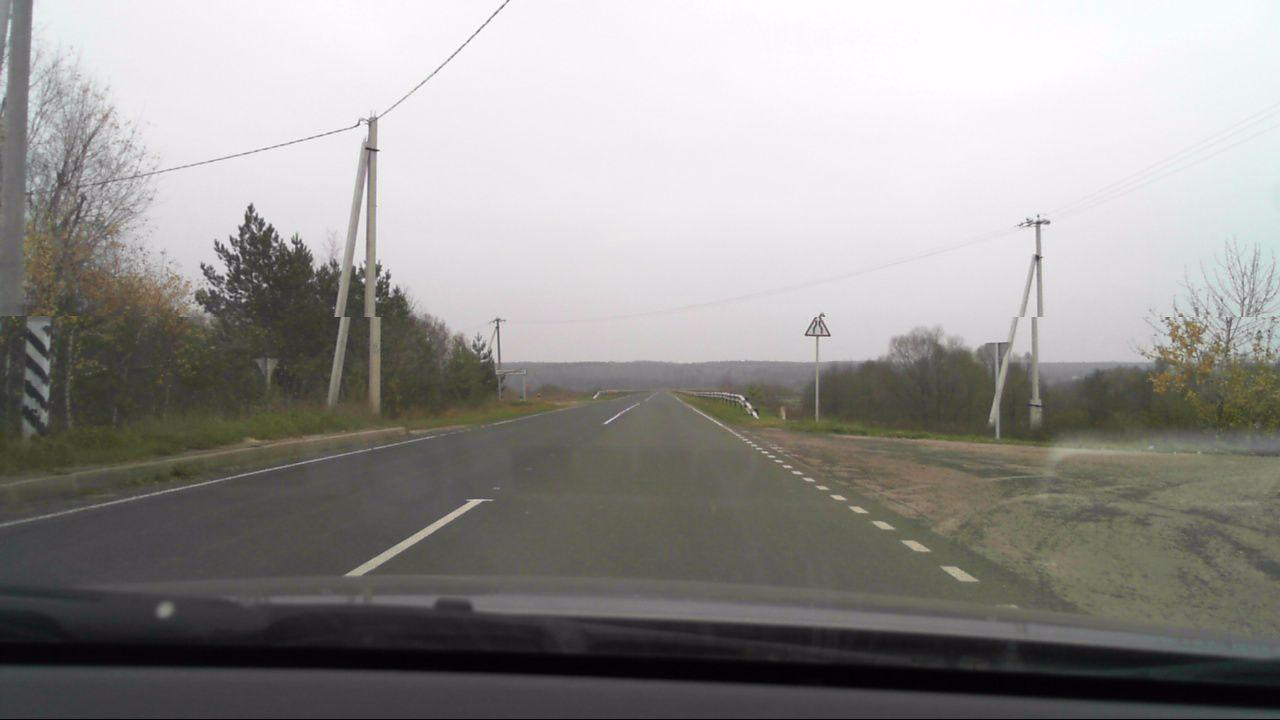1_20_1: (803, 313, 830, 337)
